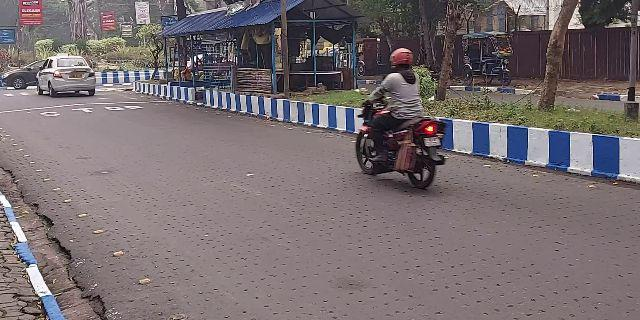Car: (41, 54, 102, 99)
Motorbike: (356, 50, 450, 193)
Rickshaw: (462, 32, 518, 82)
